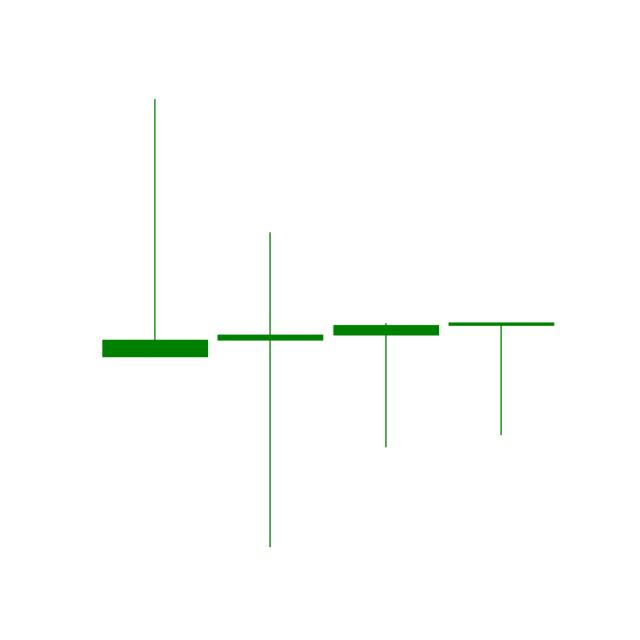Hammer: (331, 320, 444, 449)
Long-Legged Doji: (215, 228, 325, 550)
